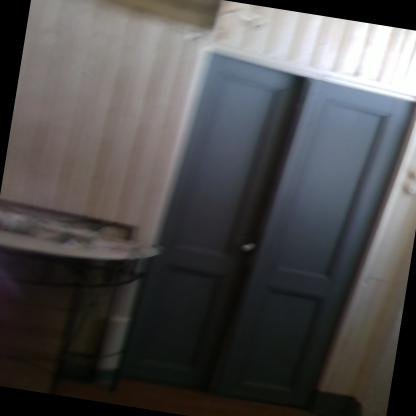closed: (133, 32, 415, 415)
